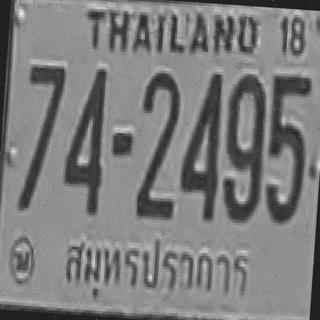N02: (133, 70, 183, 218)
N04: (59, 64, 113, 218), (176, 69, 226, 222)
N05: (262, 71, 312, 226)
N07: (17, 62, 68, 211)
N09: (218, 72, 270, 225)
P57: (56, 224, 260, 319)
